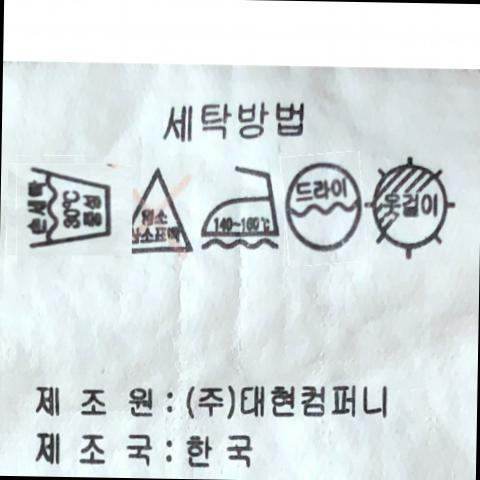DN_bleach: (124, 166, 201, 265)
dry_clean: (283, 161, 364, 255)
hand_wash: (20, 163, 115, 250)
iron_medium: (198, 163, 284, 258)
line_dry_in_shade: (365, 159, 454, 259)
